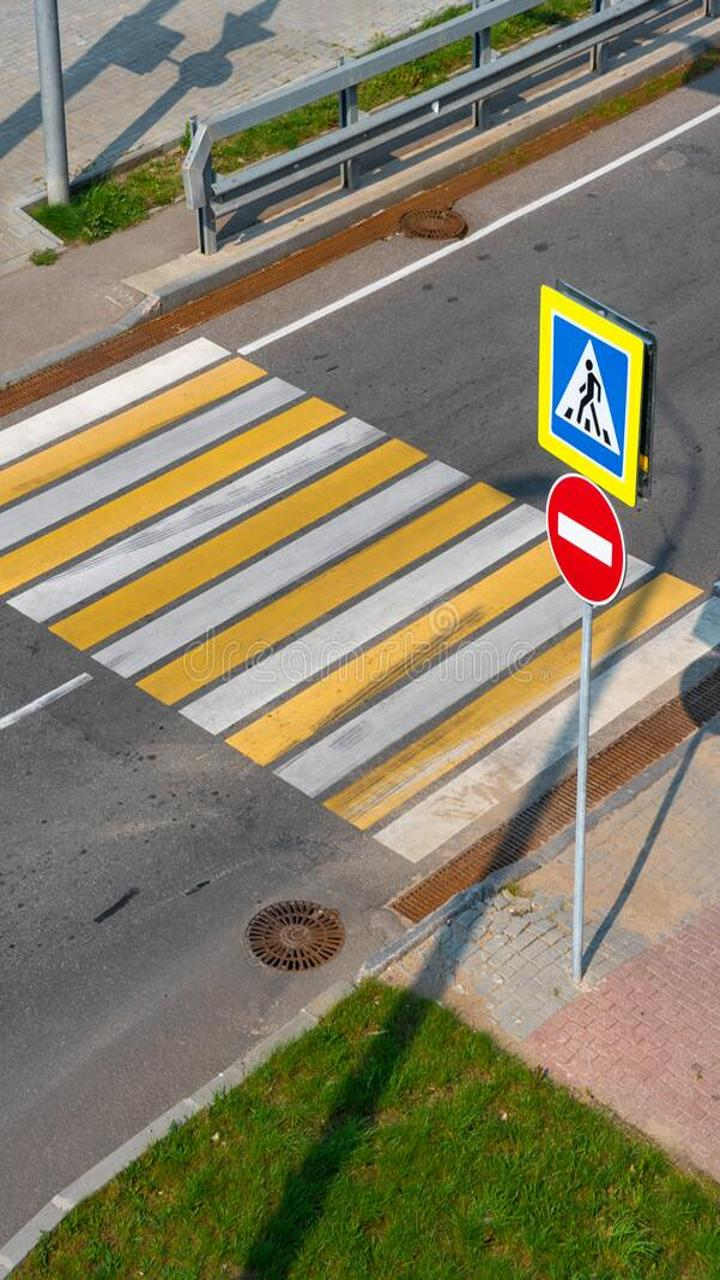Traffic sign: (512, 273, 678, 508), (527, 473, 635, 601)
